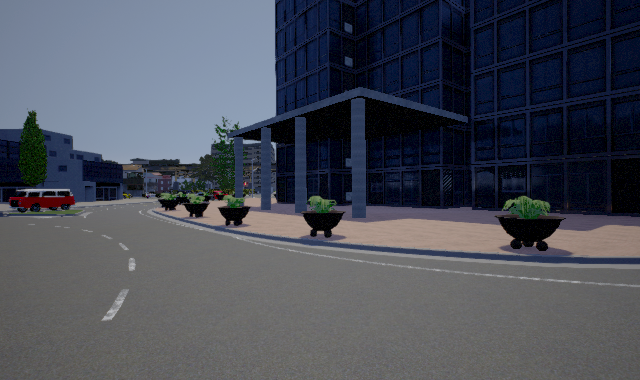vehicle: (9, 189, 76, 213)
